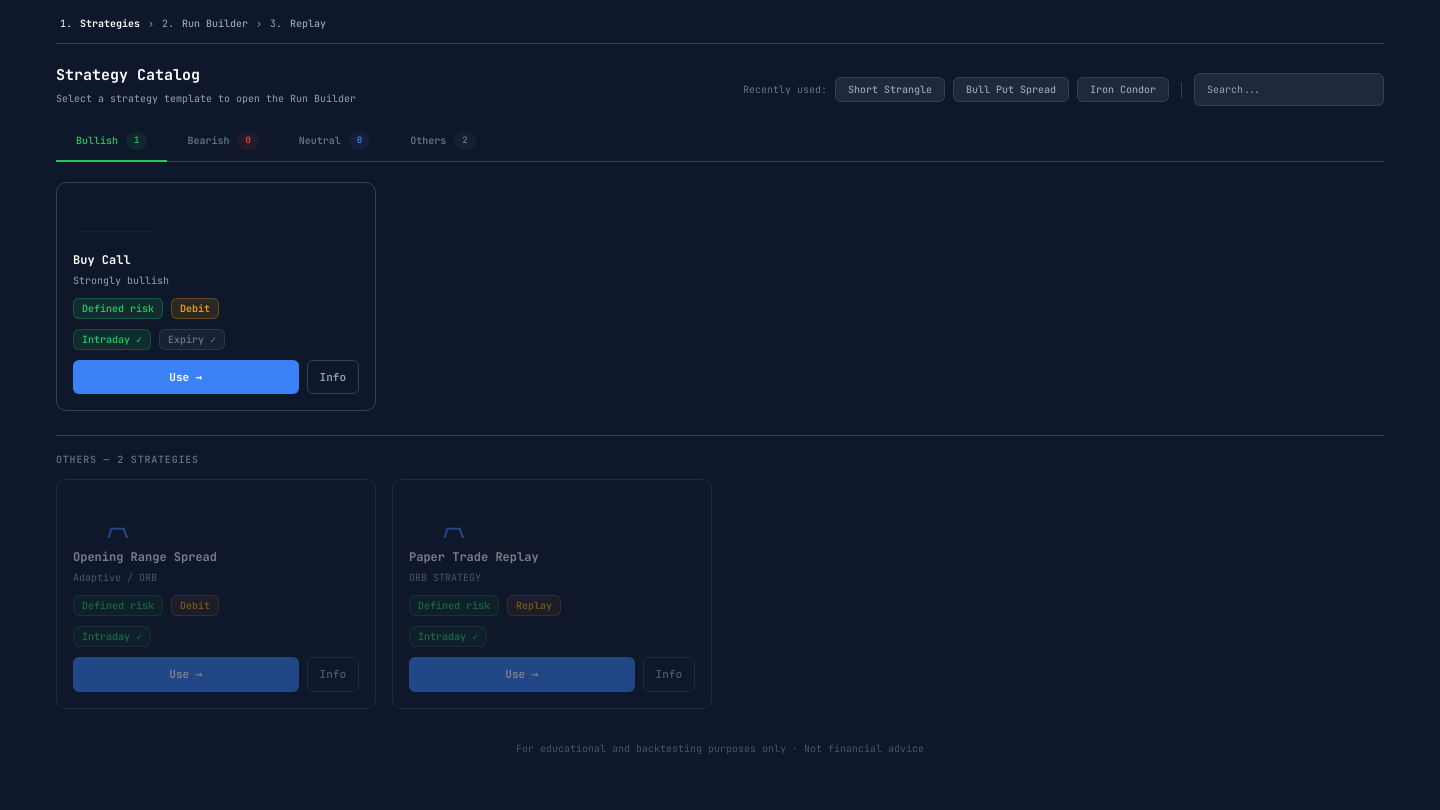
StrategyCatalog › filters the catalog by search text
expect the text "Opening Range Spread" is shown: met, box [73, 549, 217, 565]
In the field with placeholder "Search...": (1289,90) [1194, 73, 1384, 106], type "buy call"
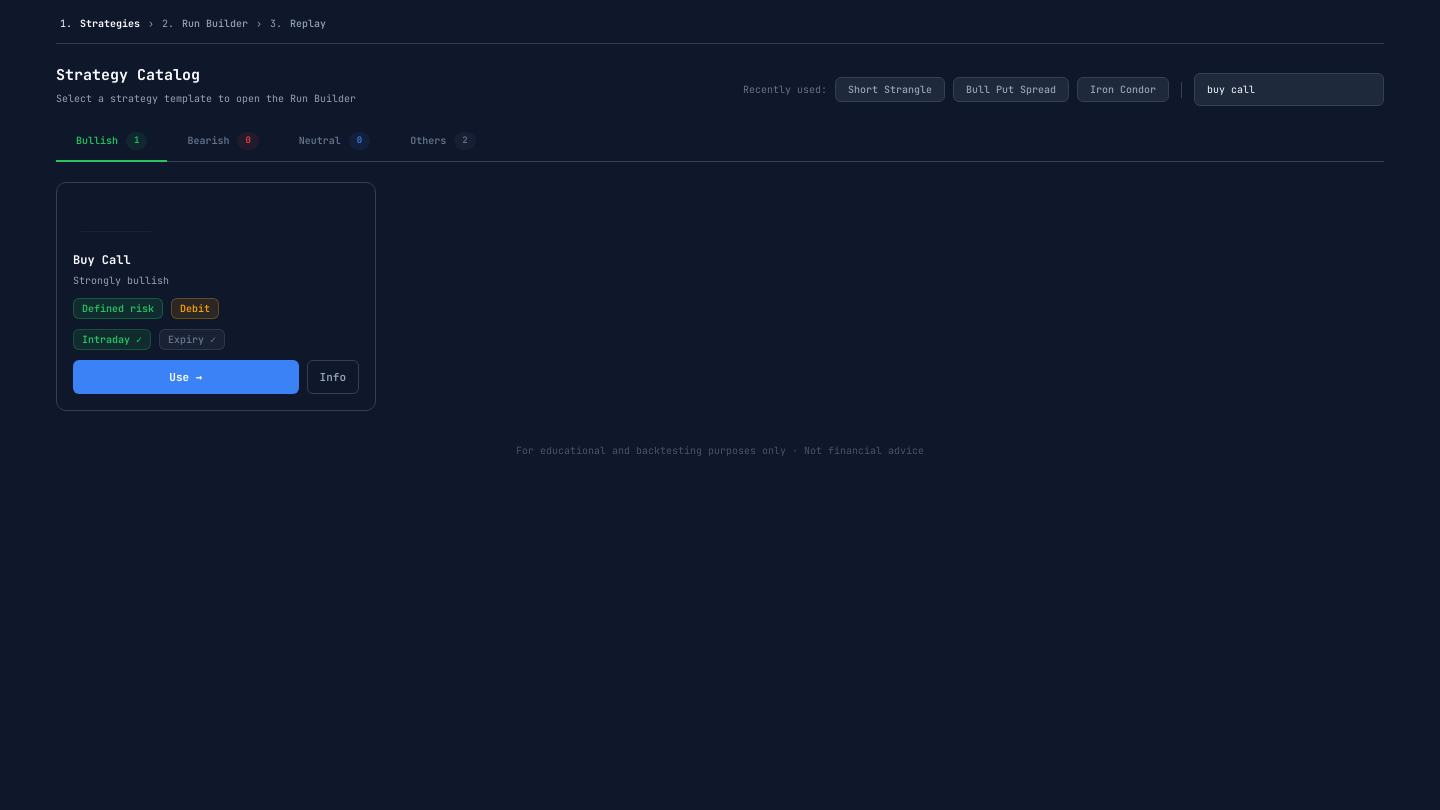
expect the text "Buy Call" is shown: met, box [73, 252, 131, 268]
expect the text "Opening Range Spread" is gone: met
